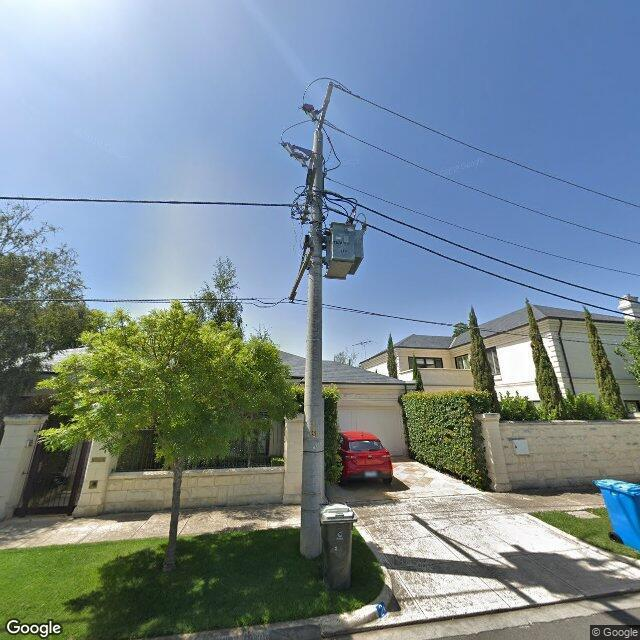HV-transmission: (280, 104, 318, 168)
concrete-pole: (300, 130, 324, 559)
crossarm: (306, 82, 334, 186), (289, 248, 313, 300)
transformer: (325, 217, 366, 280)
